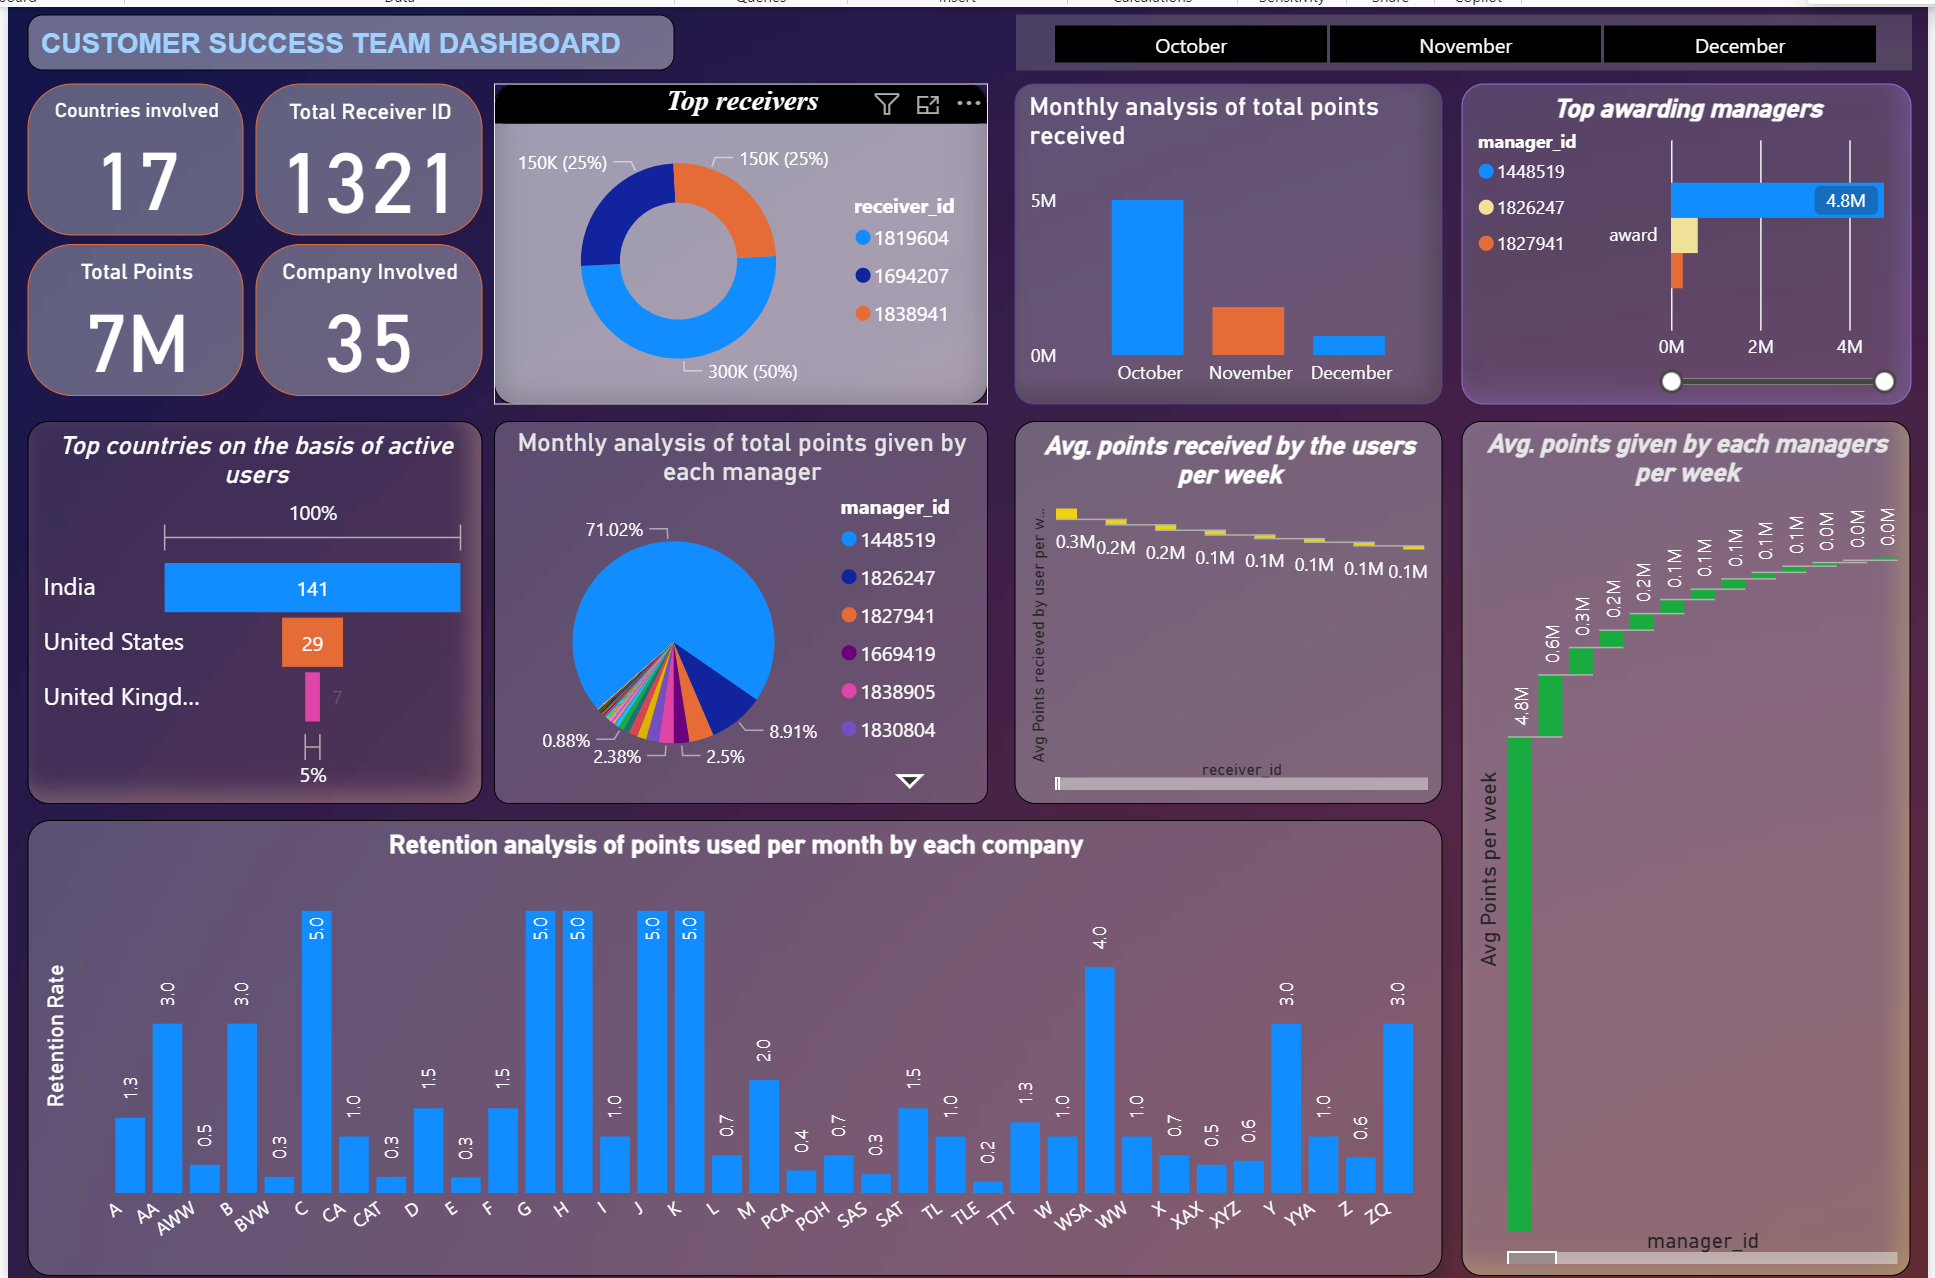

This screenshot's page, from the dashboard's own definition file:
{"tool":"powerbi","page":{"name":"Dashboard","canvas":[1280,855],"ordinal":0},"visuals":[{"type":"textbox","box":[13,7.4,430.9,37],"z":0},{"type":"donutChart","title":"Top receivers","fields":{"Category":["receiver.receiver_id"],"Y":["Sum(receiver.points)"]},"box":[324,53,329,214],"z":1000},{"type":"columnChart","title":"Monthly analysis of total points received","fields":{"Category":["receiver.date.Variation.Date Hierarchy.Year","receiver.date.Variation.Date Hierarchy.Month"],"Y":["Sum(receiver.points)"]},"box":[671,53,285,214],"z":2000},{"type":"clusteredBarChart","title":"Top awarding managers","fields":{"Category":["sender.feed type"],"Series":["manager.manager_id"],"Y":["Sum(receiver.points)"]},"box":[969,53,300,214],"z":3000},{"type":"funnel","title":"Top countries on the basis of active users","fields":{"Category":["receiver.country"],"Y":["receiver.Top country count"]},"box":[13,278,303,255],"z":4000},{"type":"pieChart","title":"Monthly analysis of total points given by each manager","fields":{"Category":["manager.manager_id","receiver.date.Variation.Date Hierarchy.Month"],"Y":["Sum(receiver.points)"]},"box":[324,278,329,255],"z":5000},{"type":"waterfallChart","title":"Avg. points given by each managers per week","fields":{"Category":["manager.manager_id"],"Y":["manager.Avg Points per week"]},"box":[969,278,299,570],"z":6000},{"type":"waterfallChart","title":"Avg. points received by the users per week","fields":{"Category":["receiver.receiver_id"],"Y":["receiver.Avg Points recieved by user per week"]},"box":[671,278,285,255],"z":7000},{"type":"clusteredColumnChart","title":"Retention analysis of points used per month by each company","fields":{"Category":["receiver.company_names","receiver.date.Variation.Date Hierarchy.Month"],"Y":["receiver.Retention Rate"]},"box":[13,544,943,304],"z":8000},{"type":"card","title":"Total Points","fields":{"Values":["Sum(receiver.points)"]},"box":[13,160,144,101],"z":9000},{"type":"card","title":"Countries involved","fields":{"Values":["Count(receiver.country)"]},"box":[13,53,144,101],"z":10000},{"type":"card","title":"Total Receiver ID","fields":{"Values":["Count(receiver.receiver_id)"]},"box":[165,53,151,101],"z":11000},{"type":"card","title":"Company Involved","fields":{"Values":["Count(receiver.company_names)"]},"box":[165,160,151,101],"z":12000},{"type":"slicer","fields":{"Values":["receiver.date.Variation.Date Hierarchy.Month"]},"box":[672,7,597,37],"z":13000}]}

Visuals, with their boxes in screenshot pixels (x1, y1, x2, y2):
textbox: 5 6 664 63
"Top receivers" donutChart: 481 76 984 404
"Monthly analysis of total points received" columnChart: 1012 76 1448 404
"Top awarding managers" clusteredBarChart: 1468 76 1927 404
"Top countries on the basis of active users" funnel: 5 420 469 811
"Monthly analysis of total points given by each manager" pieChart: 481 420 984 811
"Avg. points given by each managers per week" waterfallChart: 1468 420 1926 1277
"Avg. points received by the users per week" waterfallChart: 1012 420 1448 811
"Retention analysis of points used per month by each company" clusteredColumnChart: 5 828 1448 1277
"Total Points" card: 5 240 225 394
"Countries involved" card: 5 76 225 231
"Total Receiver ID" card: 237 76 469 231
"Company Involved" card: 237 240 469 394
slicer - receiver.date.Variation.Date Hierarchy.Month: 1013 6 1927 62
